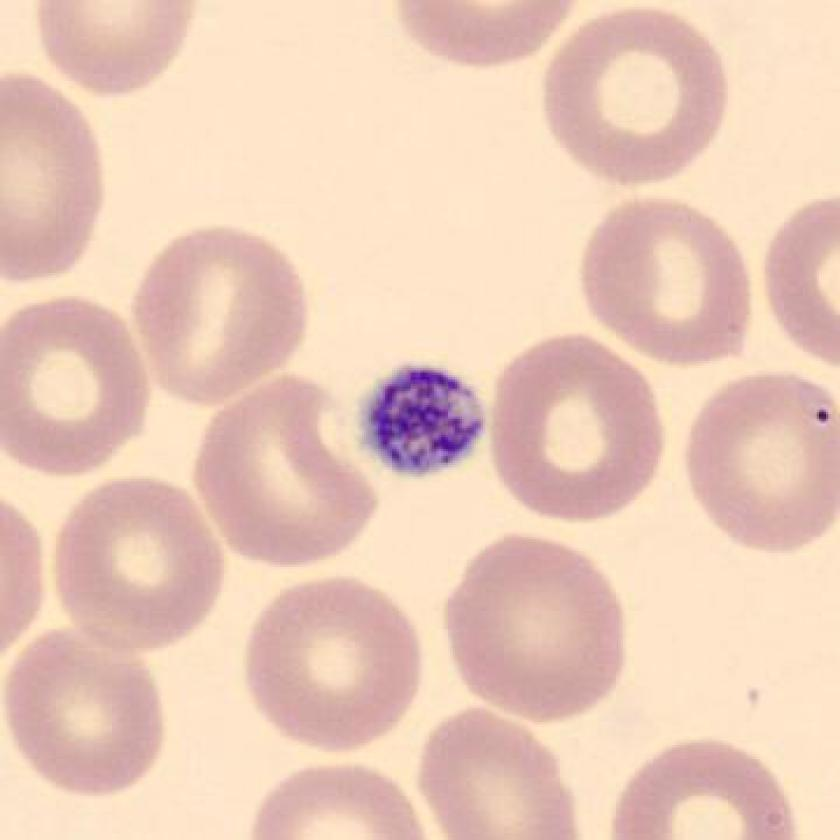platelets: (344, 346, 505, 489)
